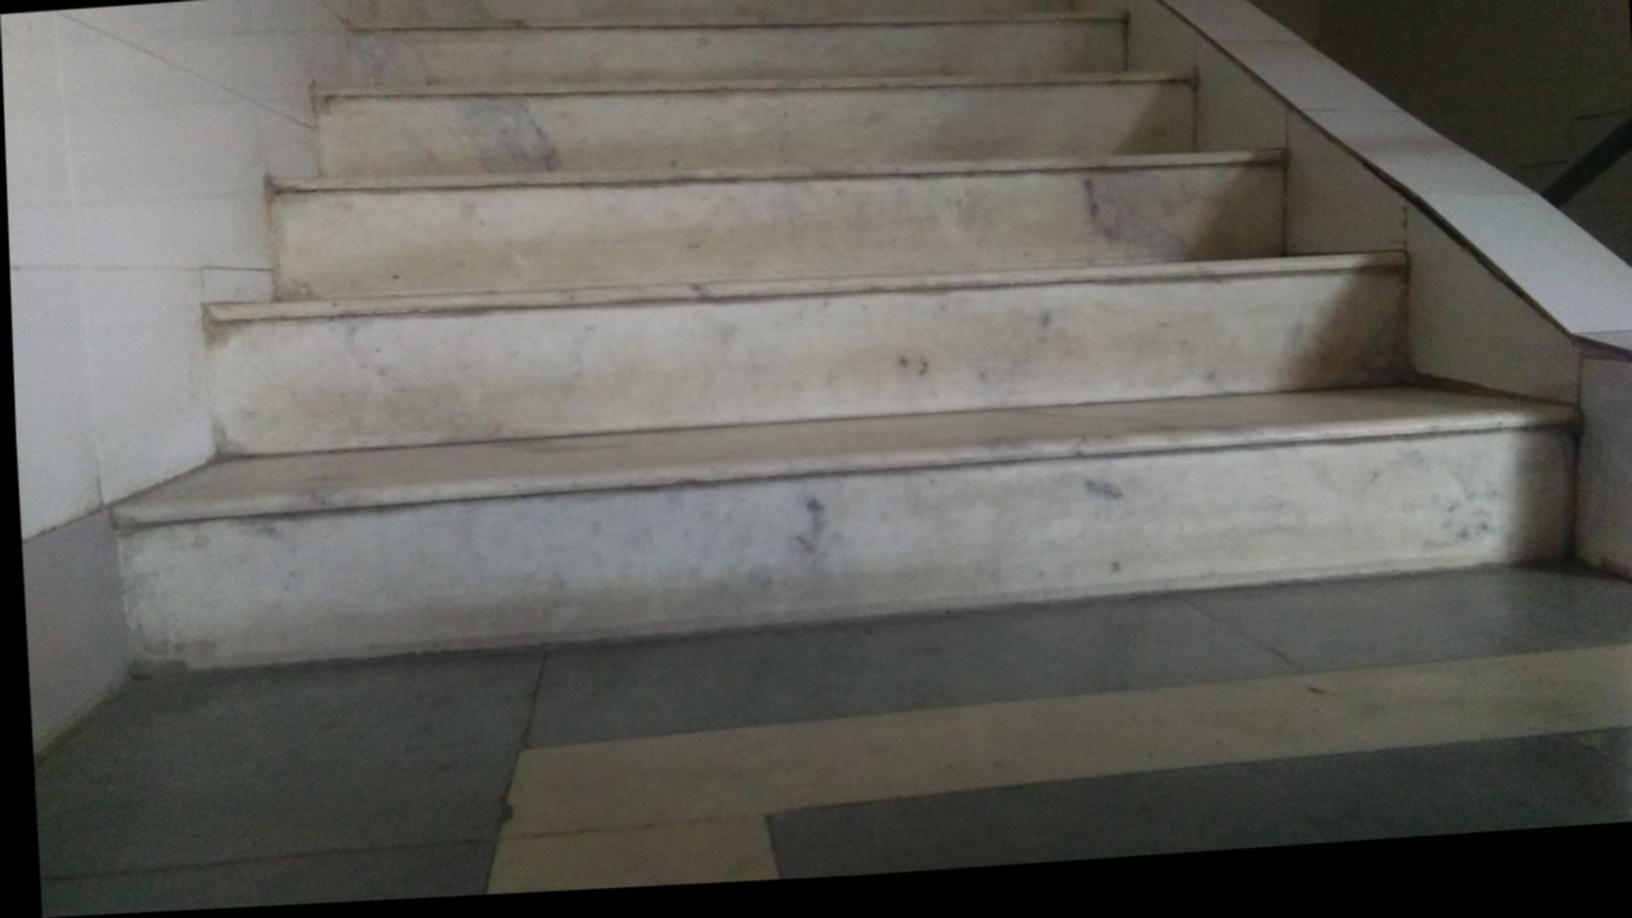Bench: (82, 0, 1583, 671)
